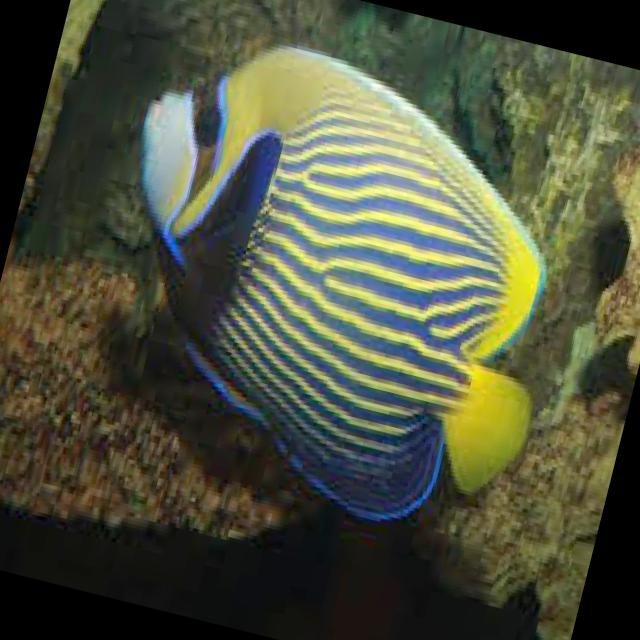AngelFish: (64, 11, 606, 552)
